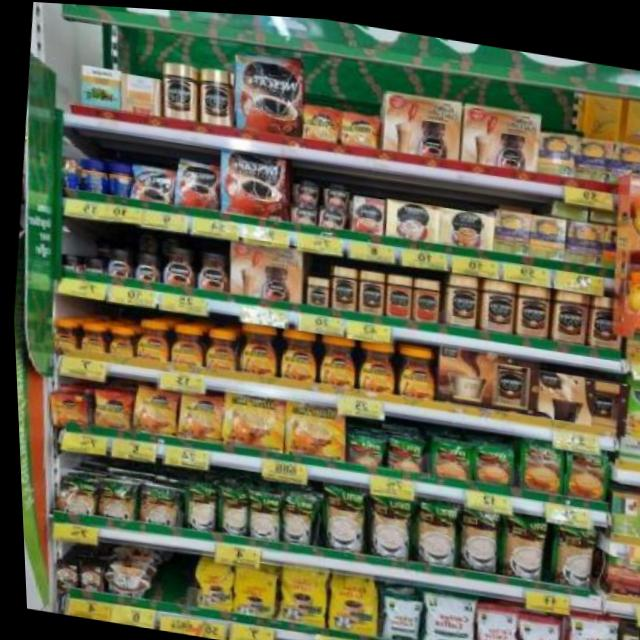Coffee: (230, 51, 305, 132), (211, 145, 286, 215), (170, 387, 222, 439), (125, 383, 177, 435), (231, 318, 277, 374), (272, 322, 317, 378), (311, 329, 356, 385), (195, 63, 235, 124), (391, 339, 436, 393), (157, 57, 198, 116), (169, 155, 217, 205), (544, 278, 585, 336), (353, 333, 394, 390), (509, 273, 548, 329), (475, 270, 512, 327), (439, 266, 475, 321), (127, 162, 175, 200), (87, 388, 128, 430), (583, 285, 613, 339), (297, 98, 338, 136), (191, 245, 226, 288), (166, 319, 201, 362), (353, 263, 384, 310), (336, 106, 376, 142), (200, 324, 232, 367), (158, 242, 191, 283), (132, 317, 165, 358), (328, 261, 355, 306), (129, 249, 161, 281), (45, 317, 73, 348), (103, 243, 129, 275), (76, 318, 102, 349), (105, 322, 130, 353), (302, 272, 326, 303), (55, 250, 77, 268), (80, 254, 99, 272)
